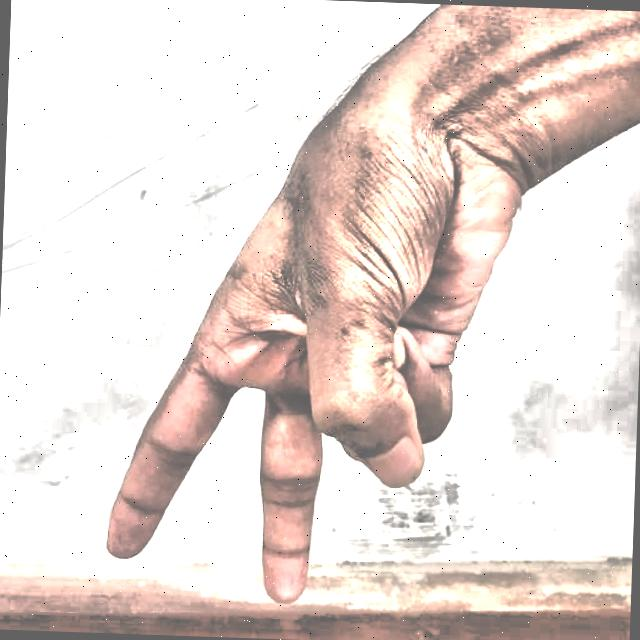Pa: (86, 49, 533, 624)
